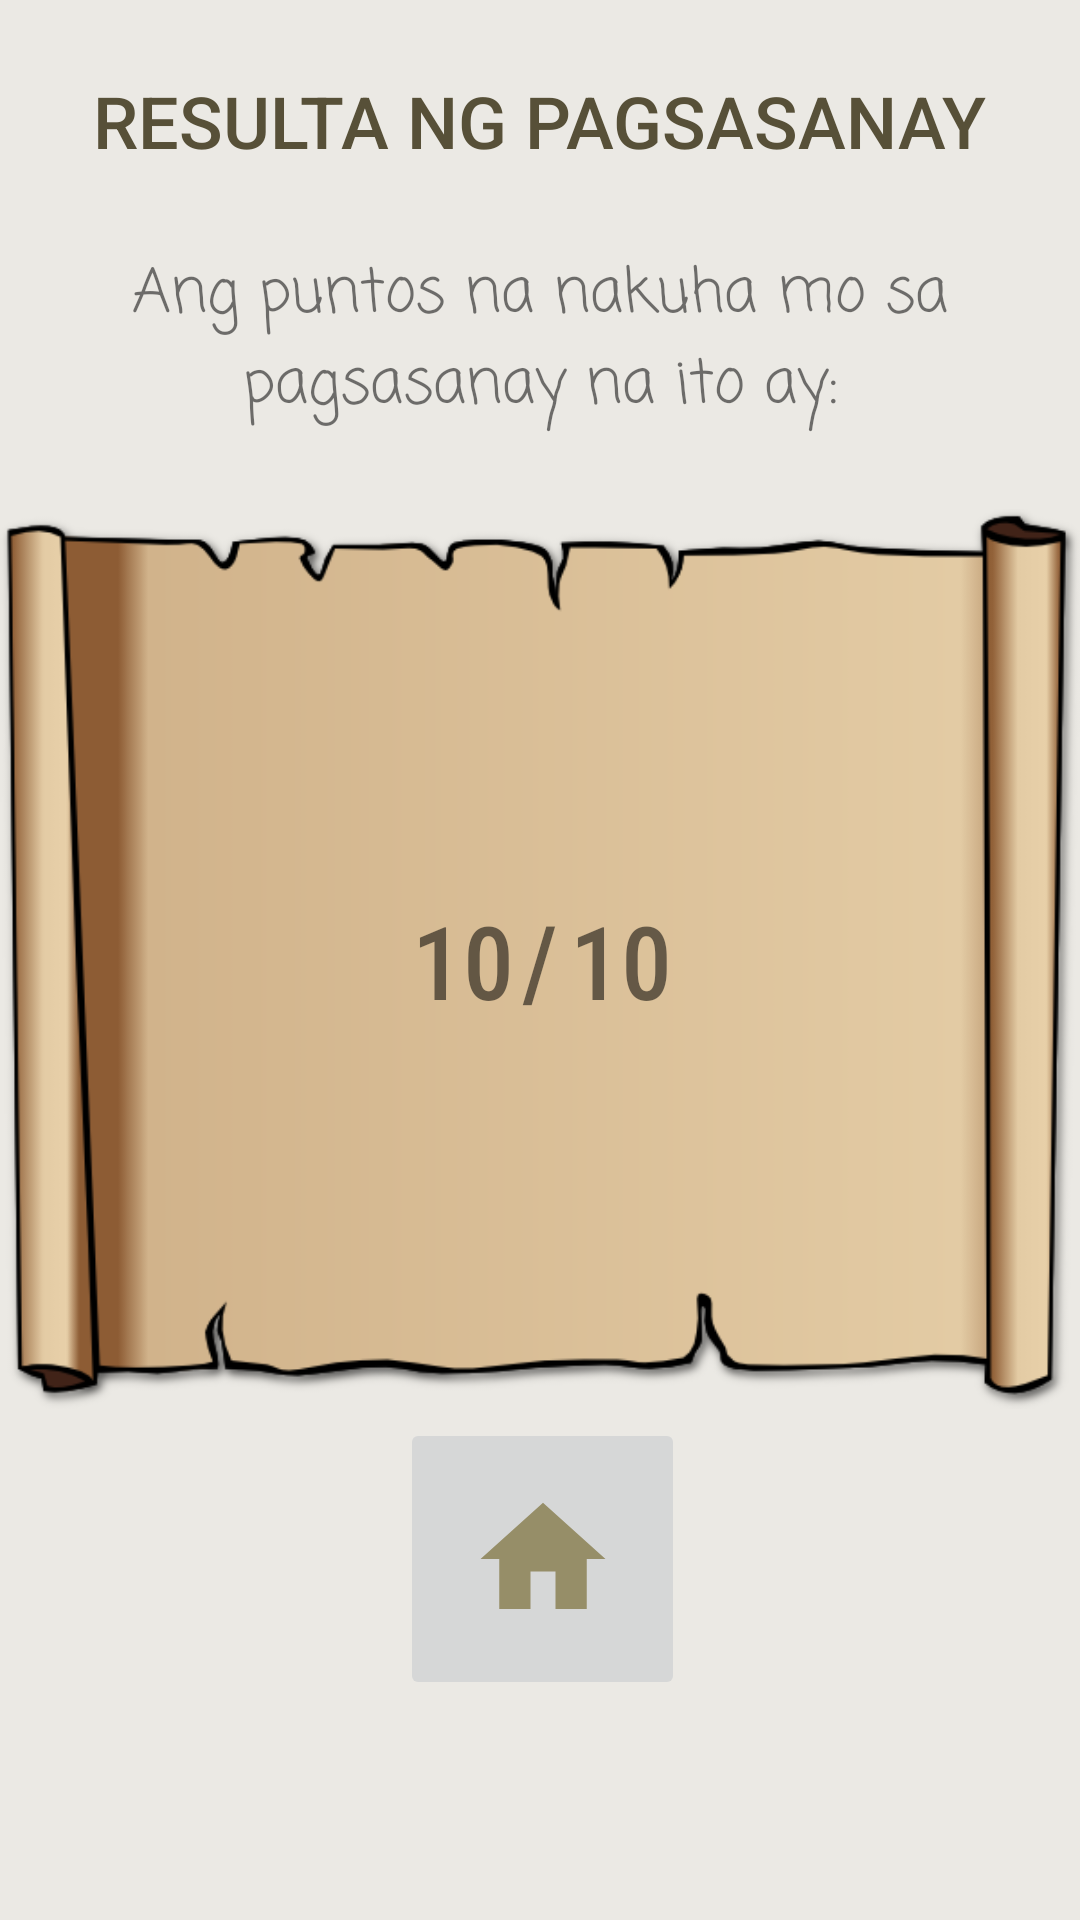

Named icons in this screenshot (1080 x 1920) and their centers, (x,y):
home: (543,1556)
